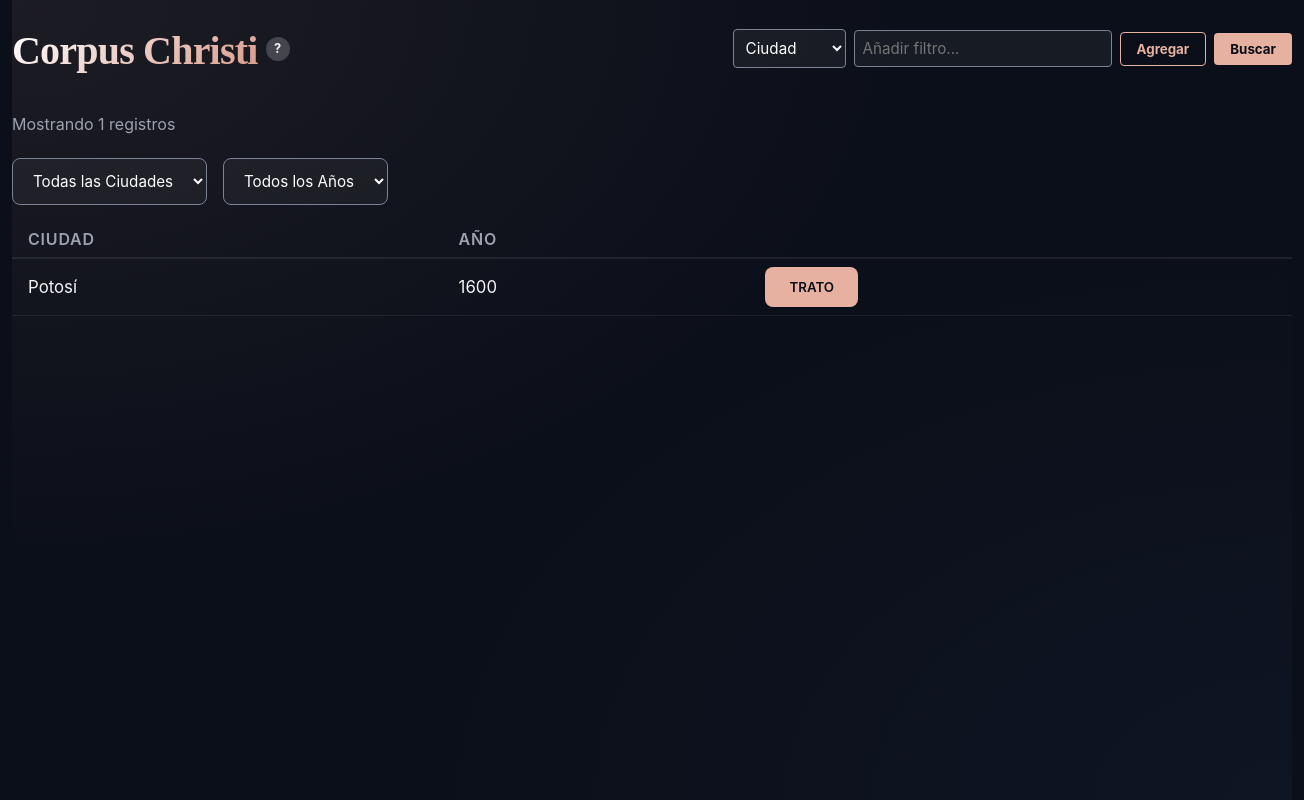
Corpus Christi: sigla en vez de número de registro › el botón muestra la sigla y no el número; una compañía repetida (Compañía y Cmp) sale una vez
Click the button "TRATO" at (812, 287), box [765,267,858,307]
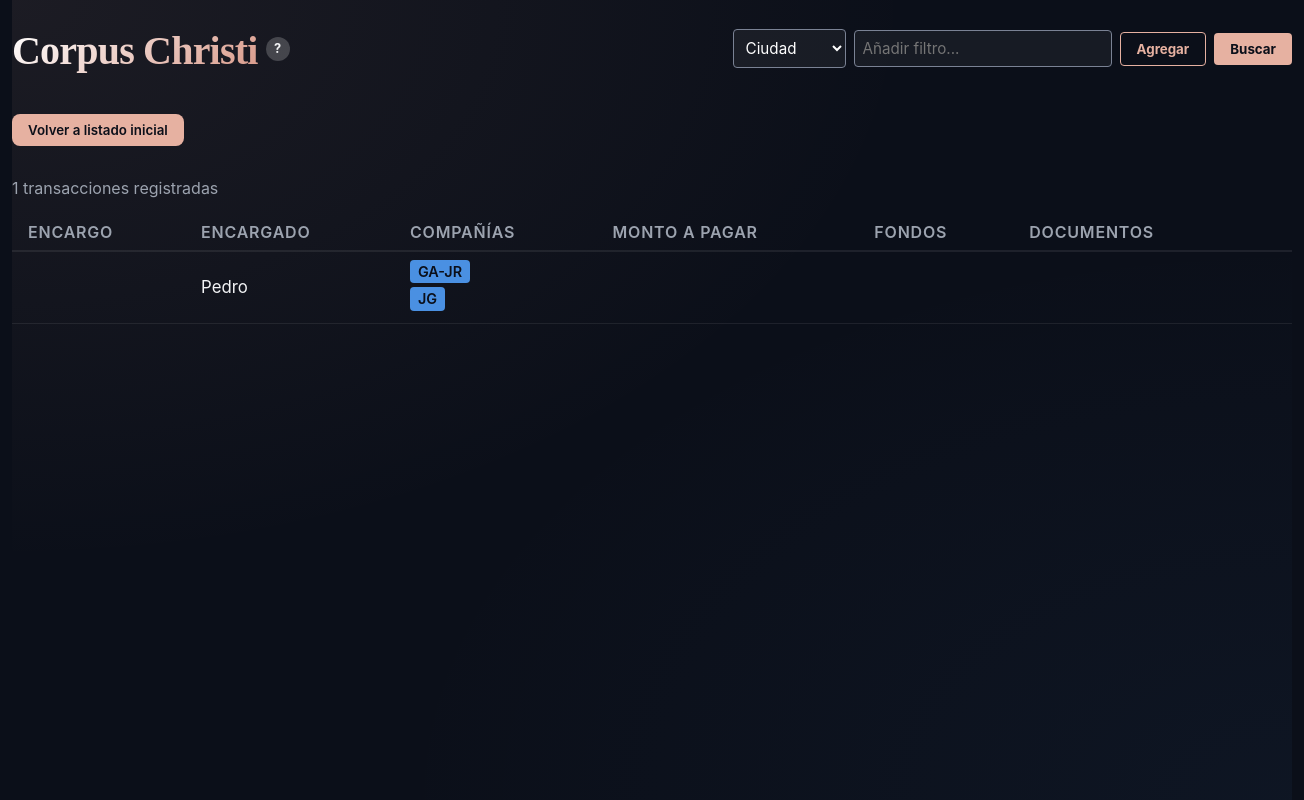
Result: the number of buttons "GA-JR" is 1 at [410,260,470,283]
Result: the number of buttons "JG" is 1 at [410,287,445,311]
